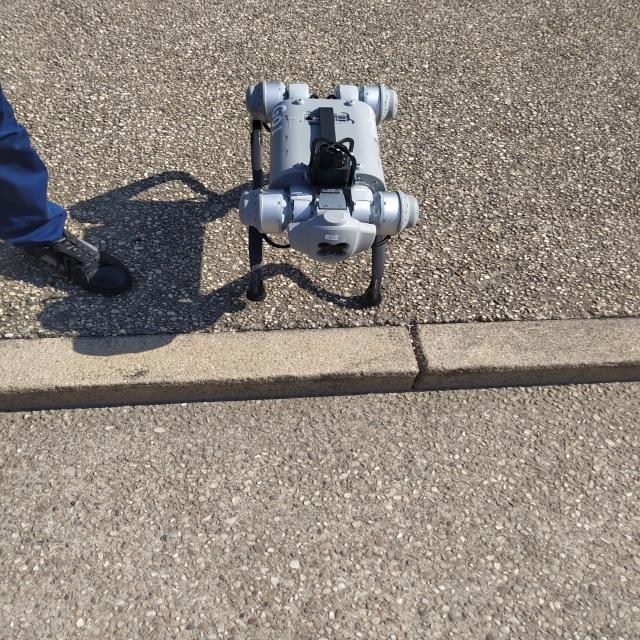unitree-go1-robot: (231, 62, 436, 315)
